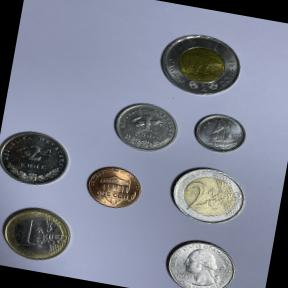coin: (150, 24, 251, 103), (162, 159, 254, 232), (0, 198, 79, 268), (0, 122, 76, 192), (156, 230, 245, 288), (79, 160, 148, 216), (187, 106, 256, 160)
